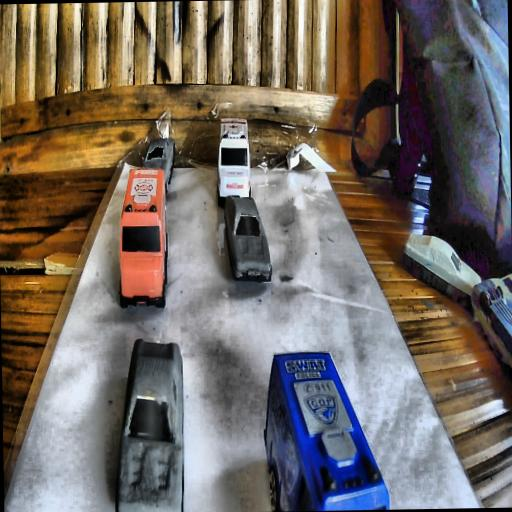ambulance: (215, 117, 253, 208)
fire_truck: (116, 163, 170, 309)
normal_car: (112, 338, 185, 512), (222, 191, 273, 284), (144, 136, 176, 196)
police car: (264, 349, 386, 512)
